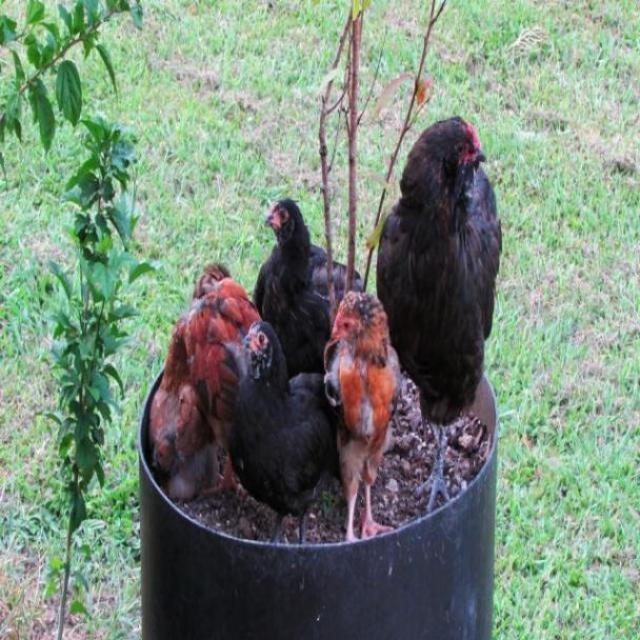Chicken: (148, 115, 503, 546), (379, 108, 502, 541), (253, 193, 368, 379), (180, 259, 261, 509), (328, 294, 399, 537), (145, 305, 221, 511)
